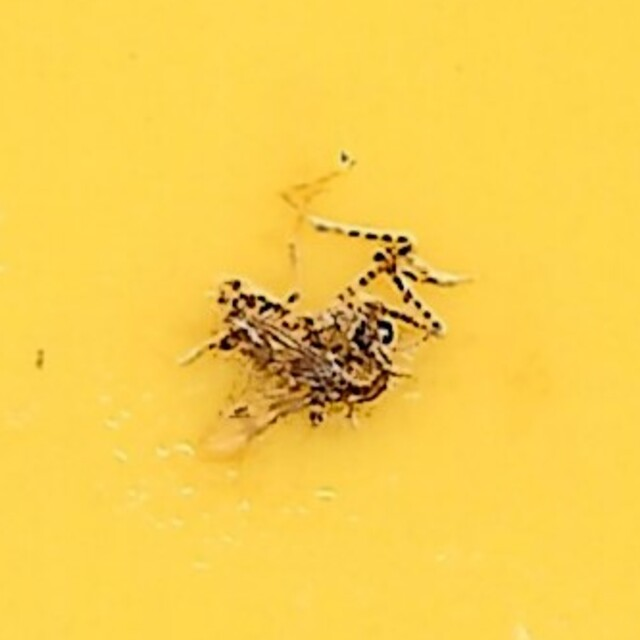Nematocera: (192, 206, 448, 434)
